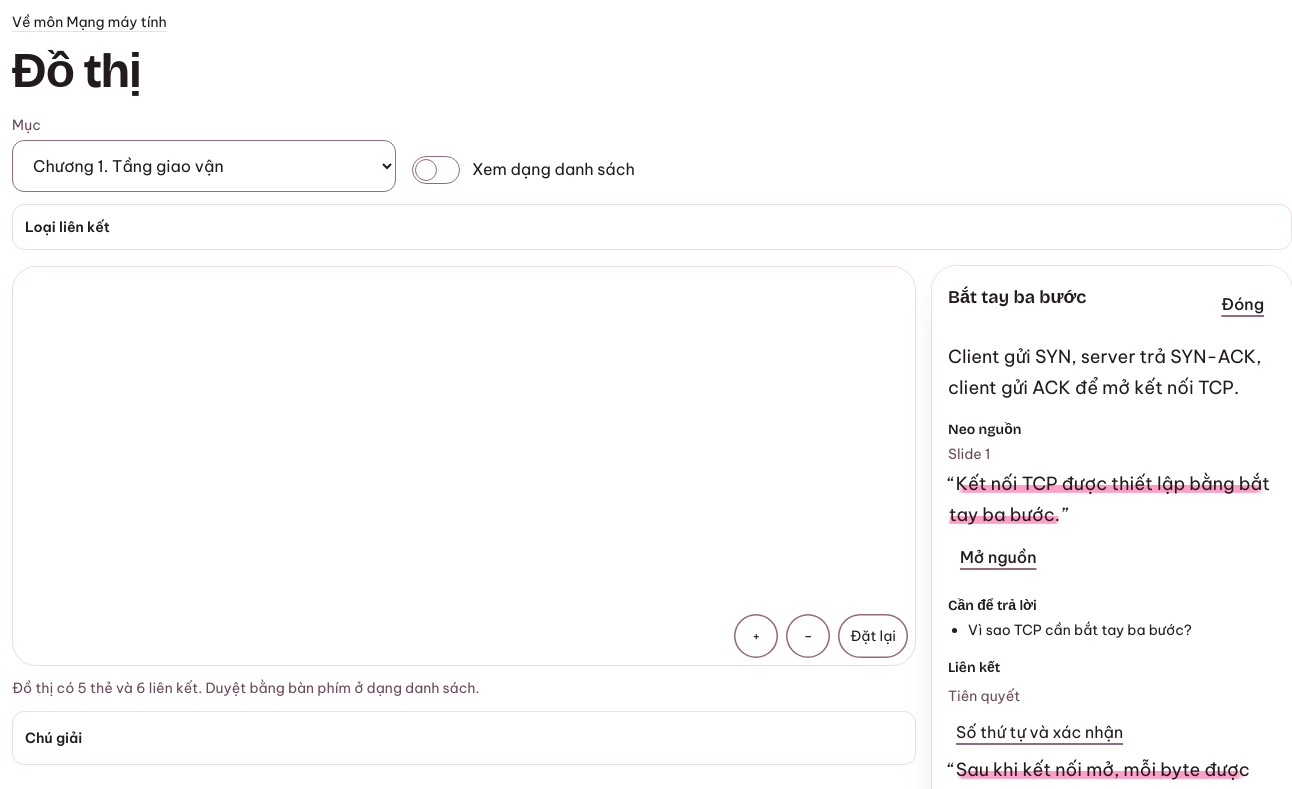
Test: the tray › US-19 AC4: Đóng clears it and the tray says what to do
The image size is (1292, 789).
Click the button "Đóng" at (1243, 304), box [1209,282,1276,326]
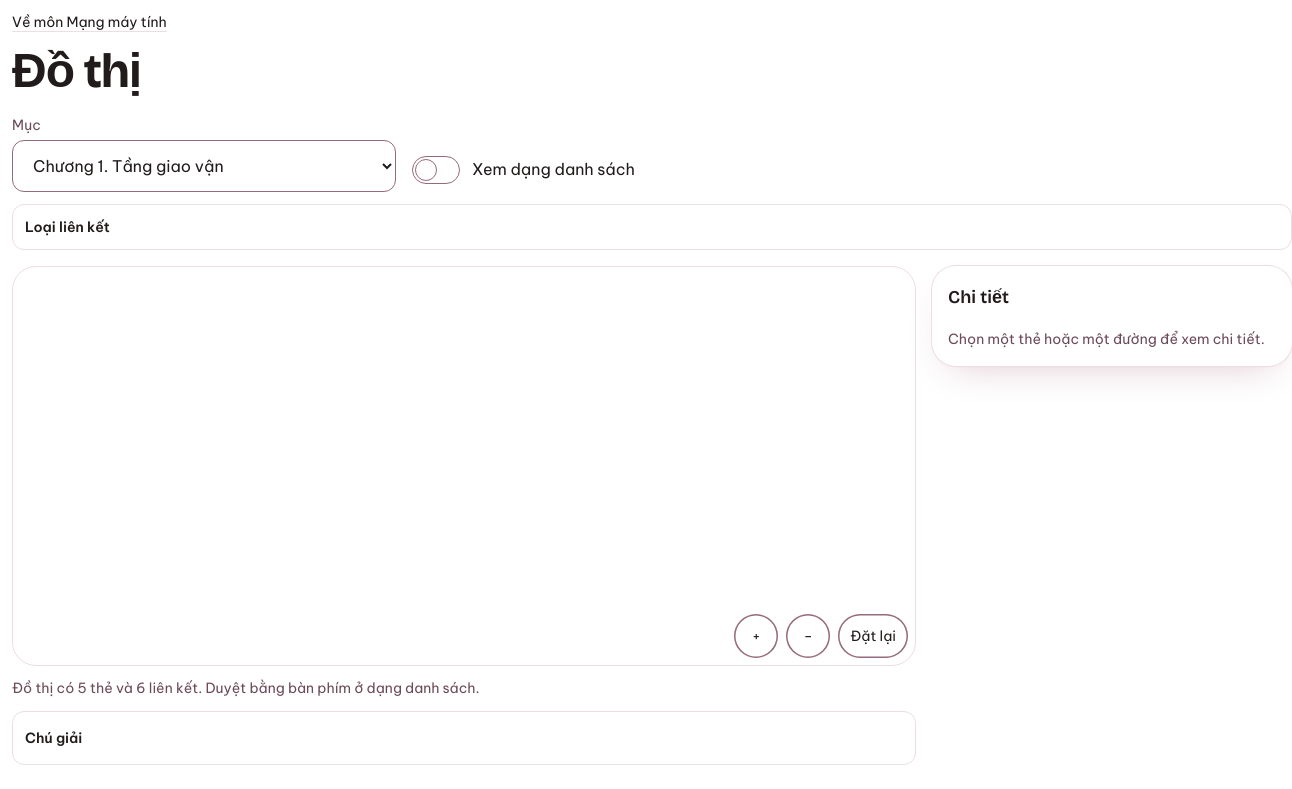
Now the text "Chọn một thẻ hoặc một đường để xem chi tiết." is shown, box [948,329,1276,350]
